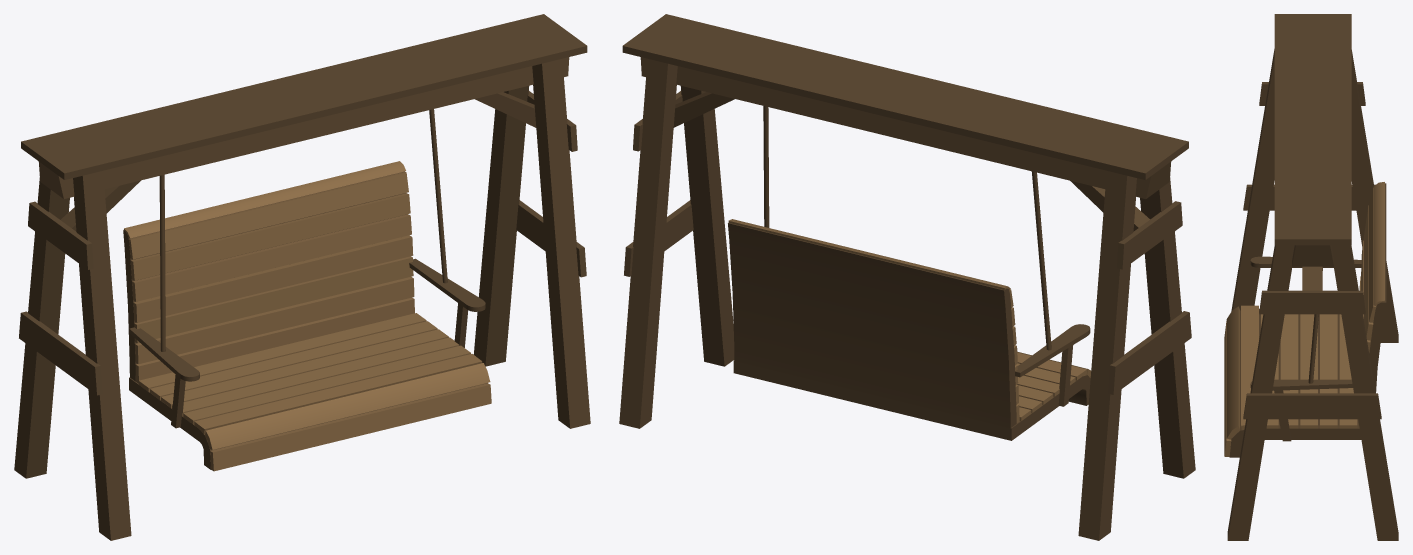
File: Swing Chair_1.fbx
The picture shows the model from 3 angles, left to right: view 1: azimuth 30°, elevation 25°; view 2: azimuth 150°, elevation 25°; view 3: azimuth 270°, elevation 25°; orthographic projection. The views are drawn at different scales.
Parts seen in each view (by area): view 1: Swing Chair_1; view 2: Swing Chair_1; view 3: Swing Chair_1.
Boxes of the visible parts, x1,y1,x2,y2 form: Swing Chair_1: (14,14,590,540); Swing Chair_1: (619,14,1195,540); Swing Chair_1: (1224,14,1398,540).
Size of the model in its own units: 180 by 116 by 58.67.
